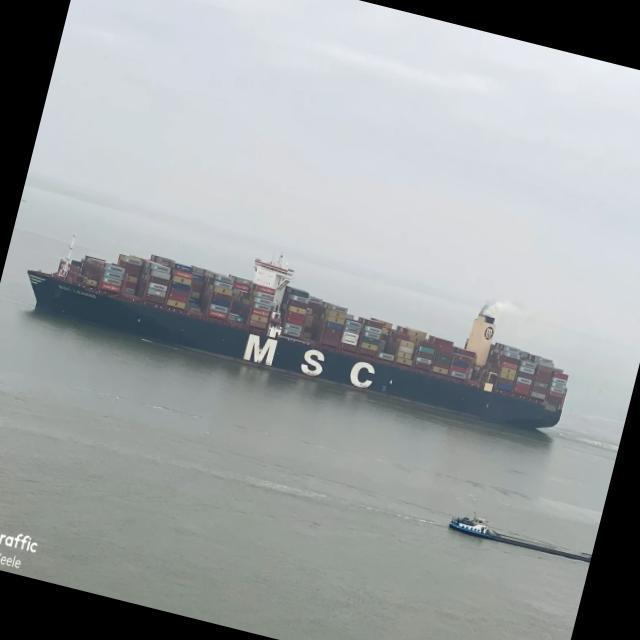Cargo: (27, 254, 567, 429)
